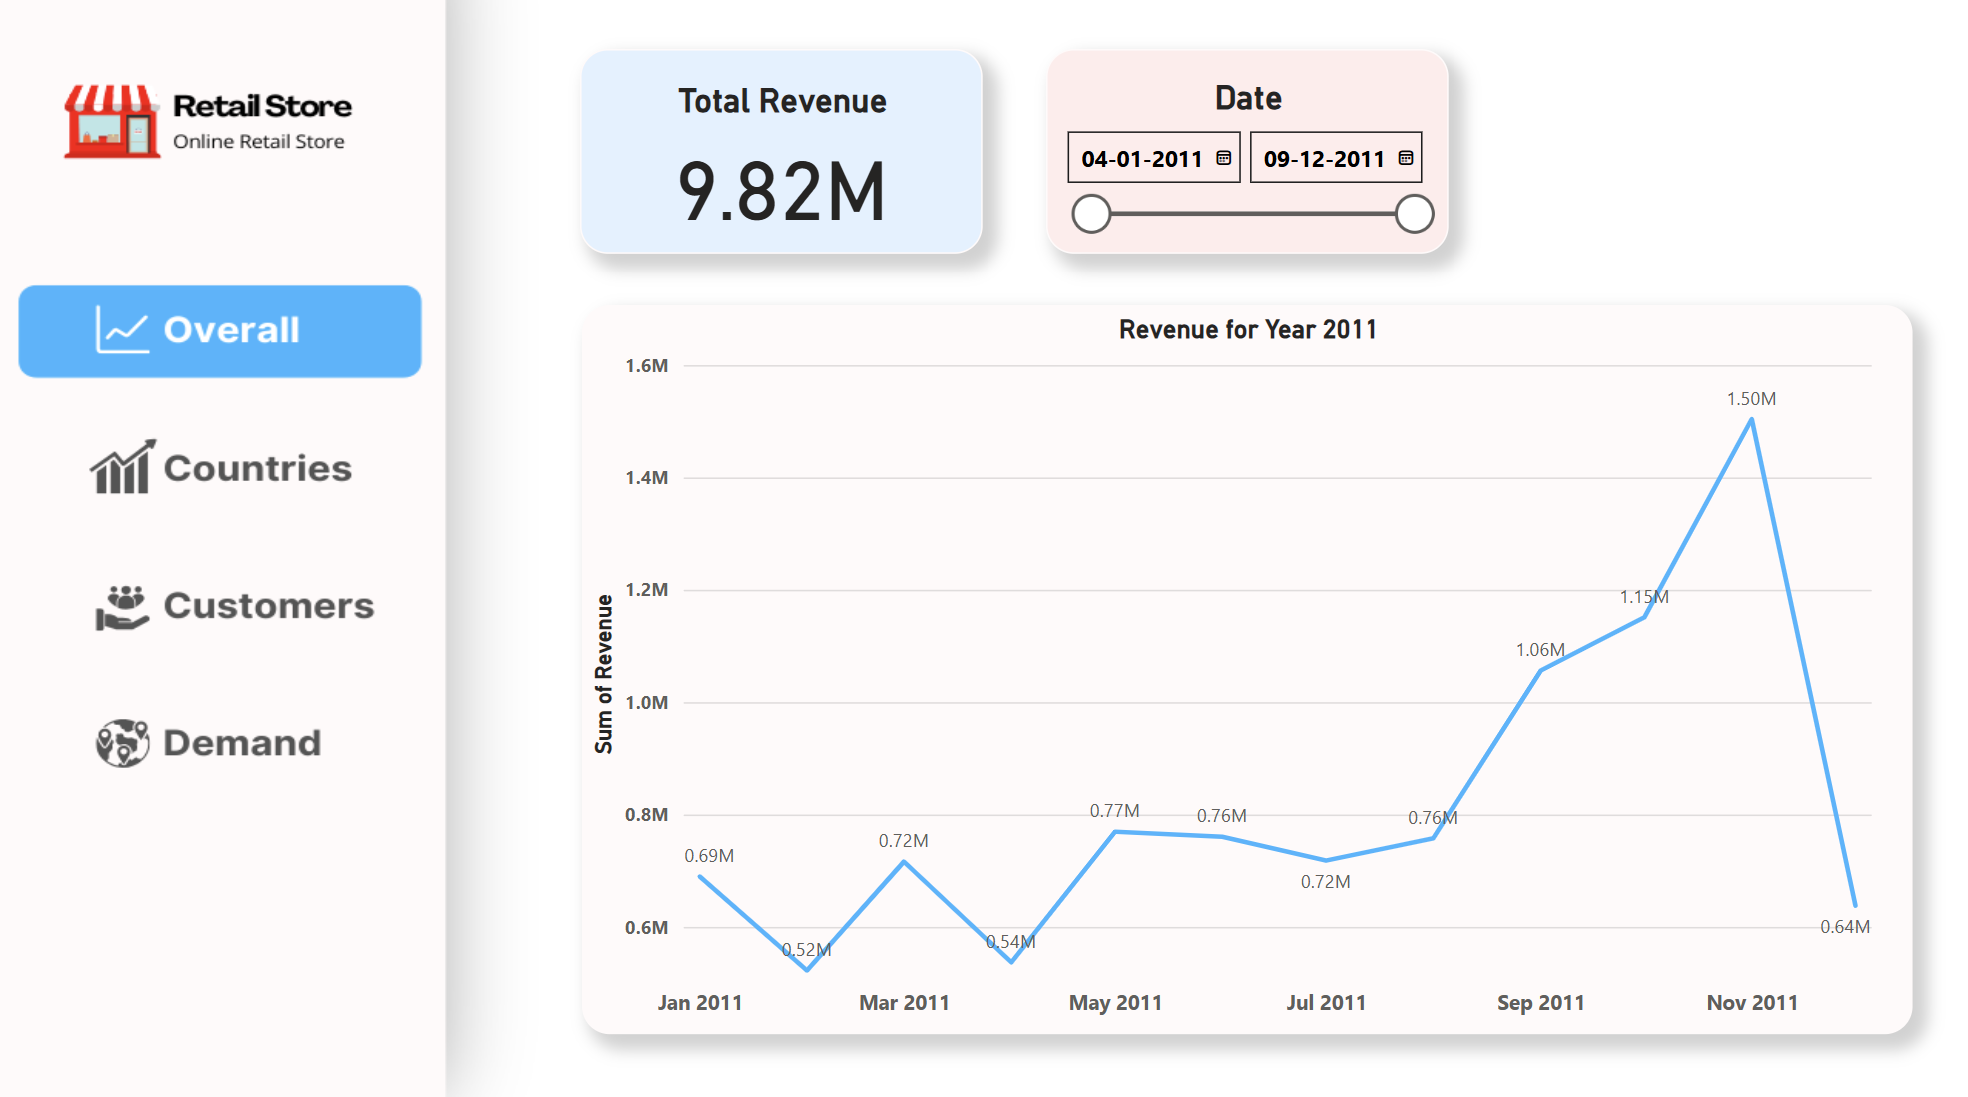

The dashboard page shown, as its layout file describes it:
{"tool":"powerbi","page":{"name":"Q.1","canvas":[1280,720],"ordinal":0},"visuals":[{"type":"actionButton","box":[13.3,276,261.3,60],"z":0},{"type":"actionButton","box":[13.3,366.7,261.3,60],"z":1000},{"type":"actionButton","box":[13.3,454.7,261.3,60],"z":2000},{"type":"lineChart","title":"Revenue for Year 2011 ","fields":{"Y":["Sum(Retail.Revenue)"],"Category":["Retail.InvoiceDate.Variation.Date Hierarchy.Year","Retail.InvoiceDate.Variation.Date Hierarchy.Month"]},"box":[377.3,200,864,473.3],"z":3000},{"type":"card","title":"Total Revenue","fields":{"Values":["Sum(Retail.Revenue)"]},"box":[377.1,34.3,261.4,132.9],"z":4000},{"type":"slicer","title":"Date","fields":{"Values":["Retail.InvoiceDate"]},"box":[678.6,34.3,261.4,132.9],"z":5000}]}

Visuals, with their boxes in screenshot pixels (x1, y1, x2, y2), scaled from the page's 1280x720 canvas onto the 1968x1097 screenshot:
actionButton: box(20, 421, 422, 512)
actionButton: box(20, 559, 422, 650)
actionButton: box(20, 693, 422, 784)
"Revenue for Year 2011 " lineChart: box(580, 305, 1908, 1026)
"Total Revenue" card: box(580, 52, 982, 255)
"Date" slicer: box(1043, 52, 1445, 255)
